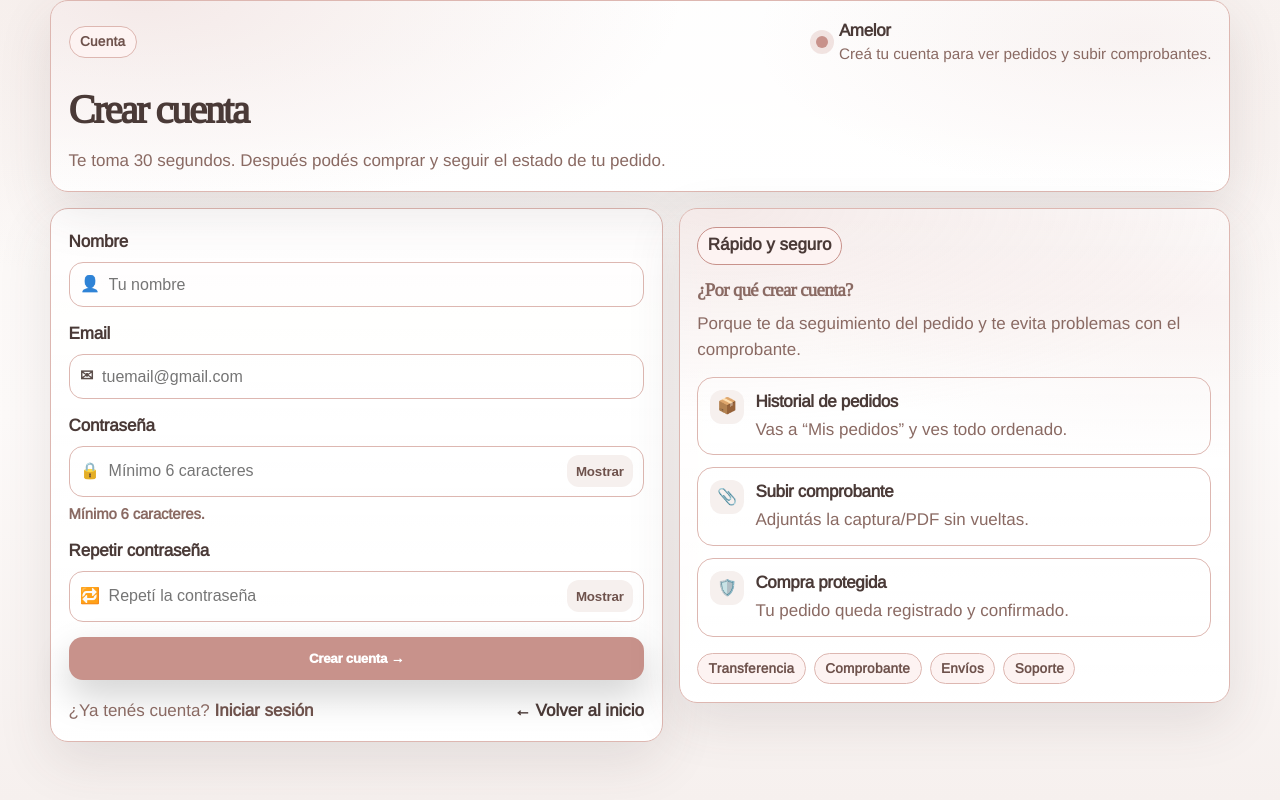
Test: Register › sin token manda al login
In the field labelled "Nombre": (371, 284) [109, 272, 633, 298], type "Ana"
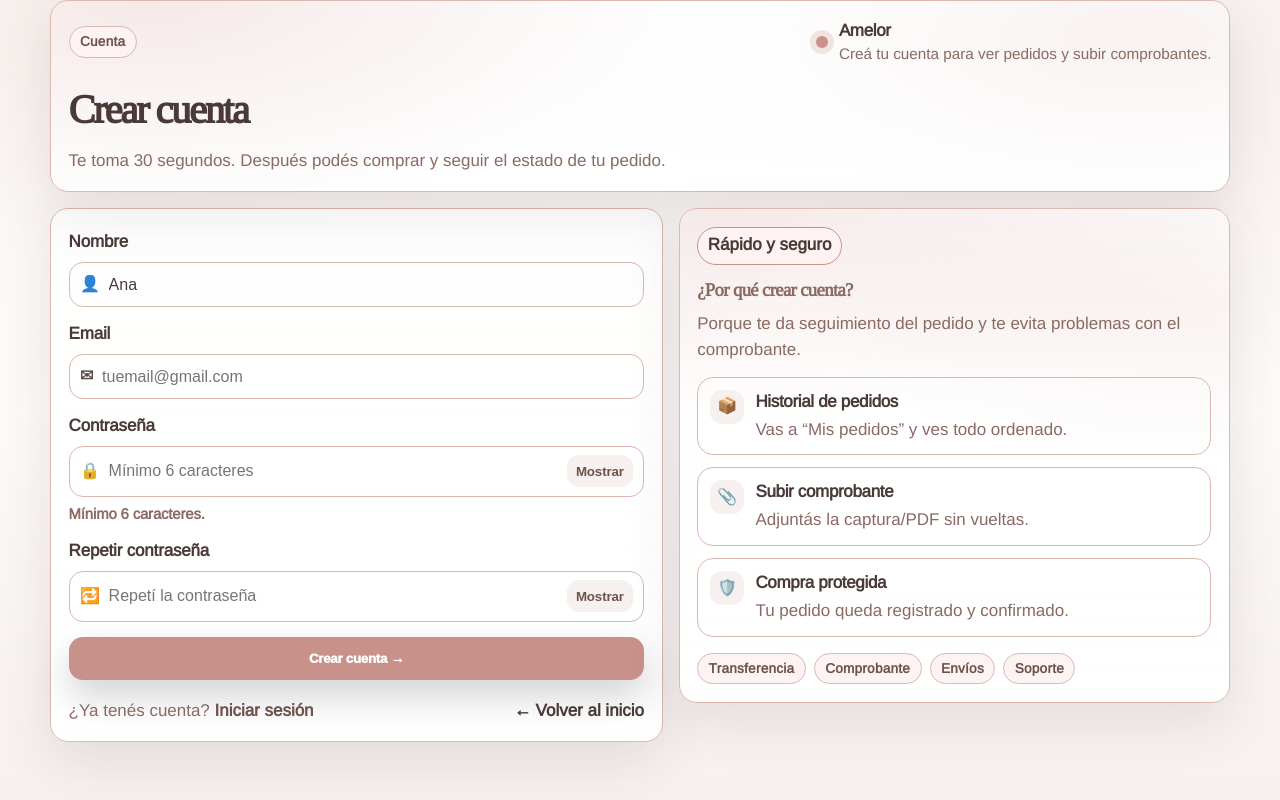
In the field labelled "Email": (367, 376) [102, 364, 633, 390], type "ana@mail.com"
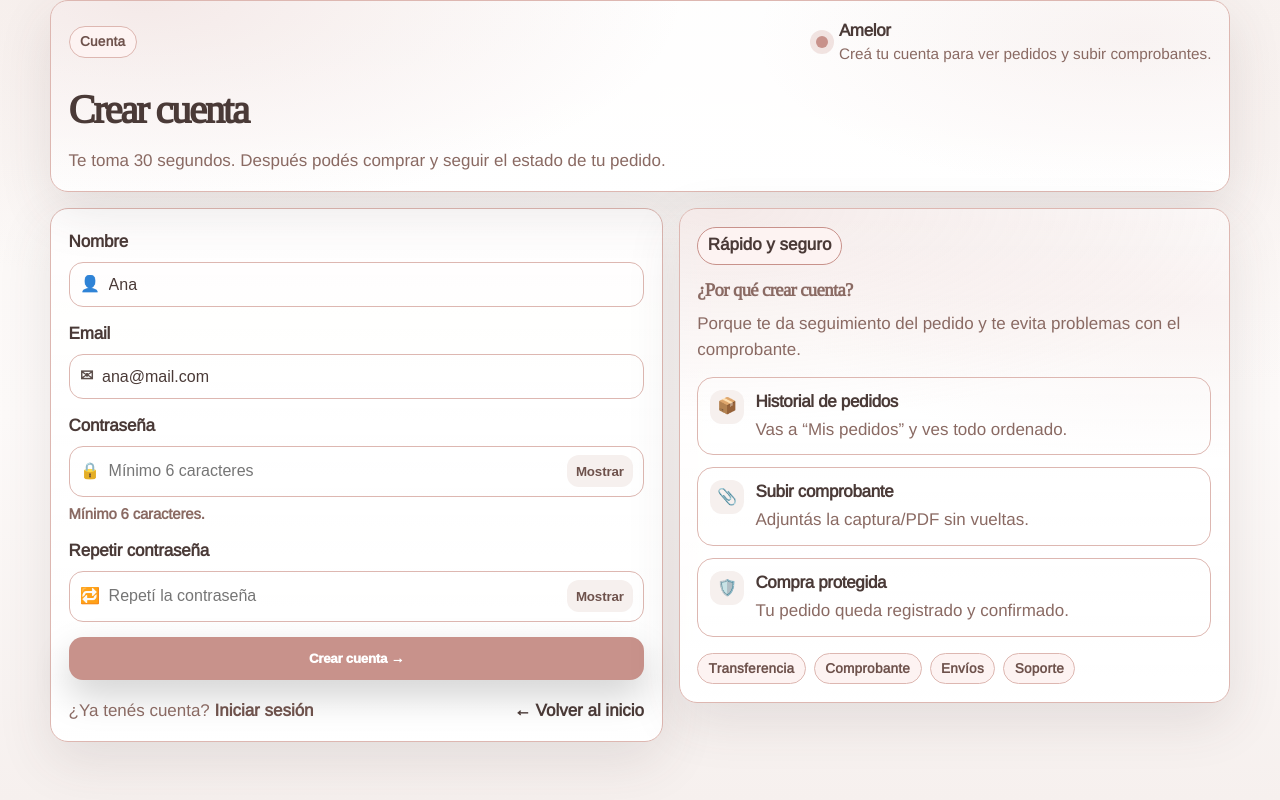
In the password field labelled "Contraseña": (333, 472) [109, 458, 558, 484], type "secreto1"
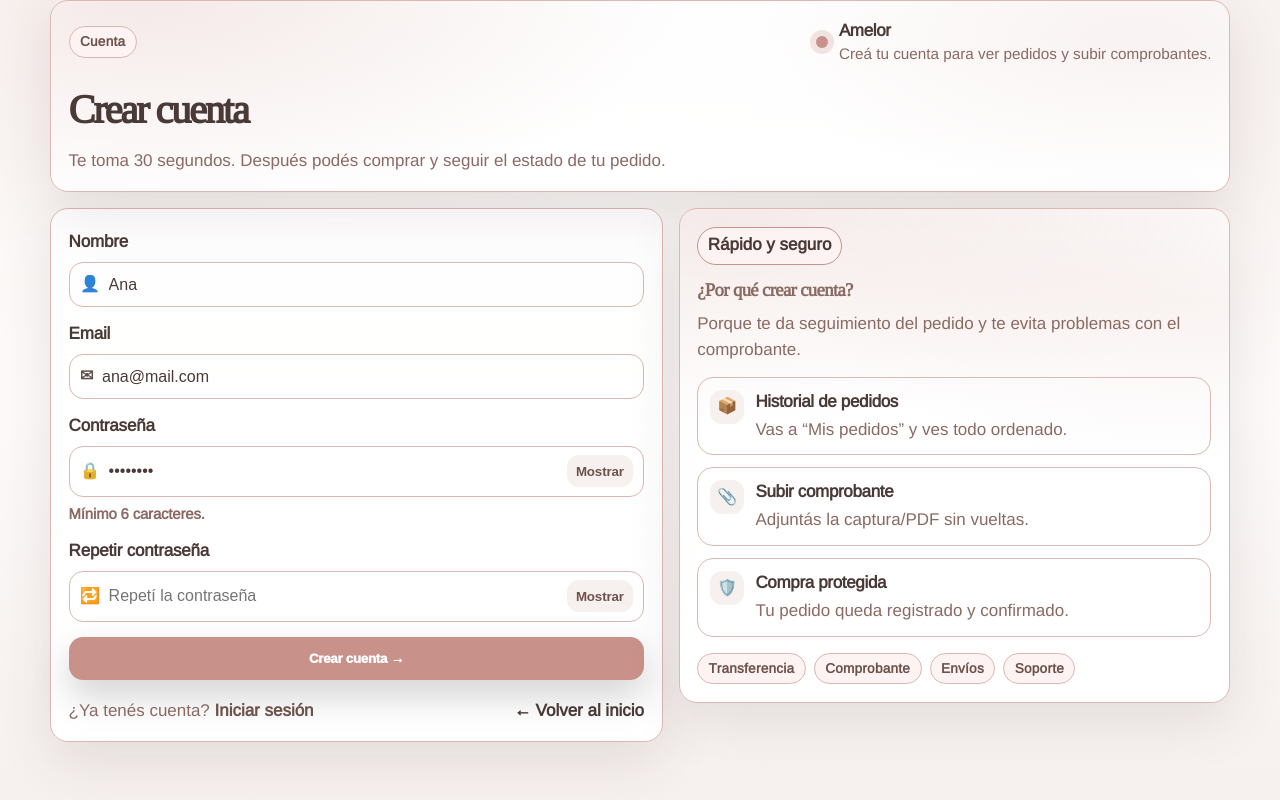
In the password field labelled "Repetir contraseña": (333, 596) [109, 583, 558, 609], type "secreto1"
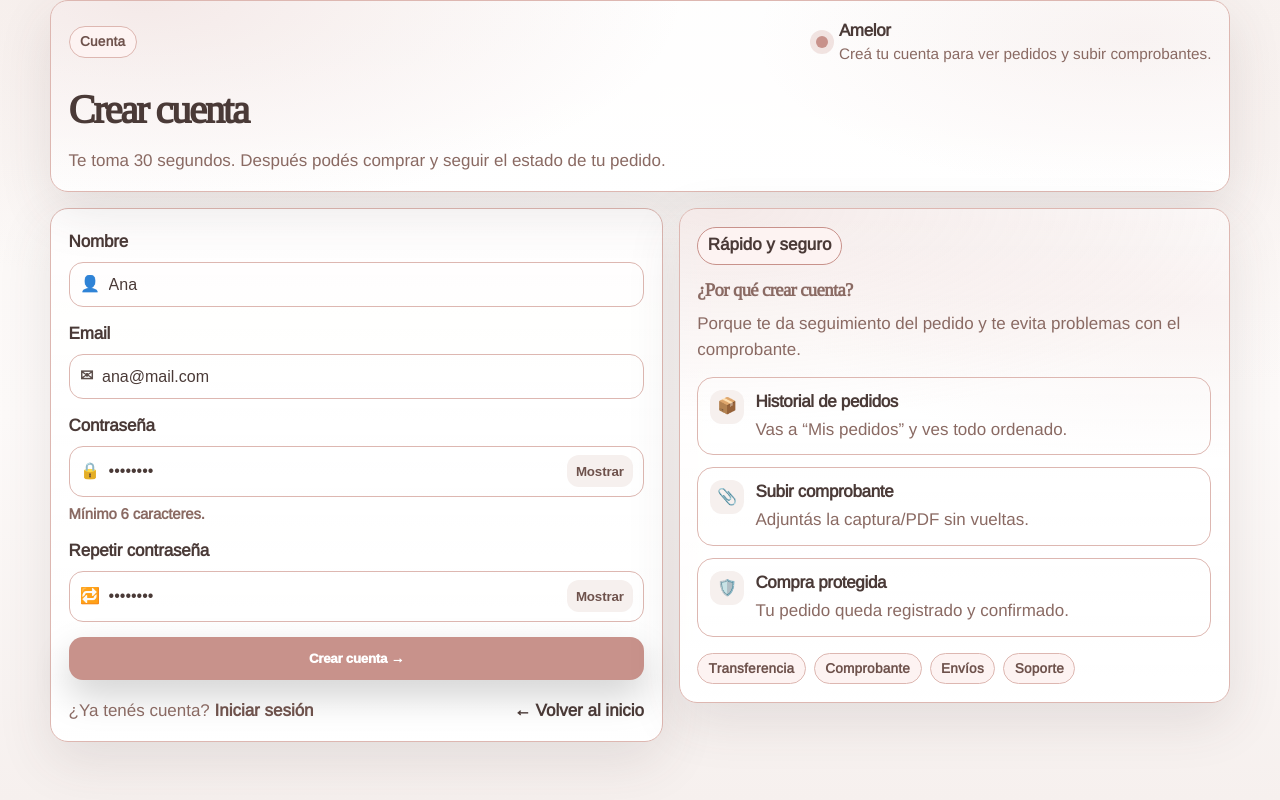
Submit the form, box [69, 230, 644, 680]
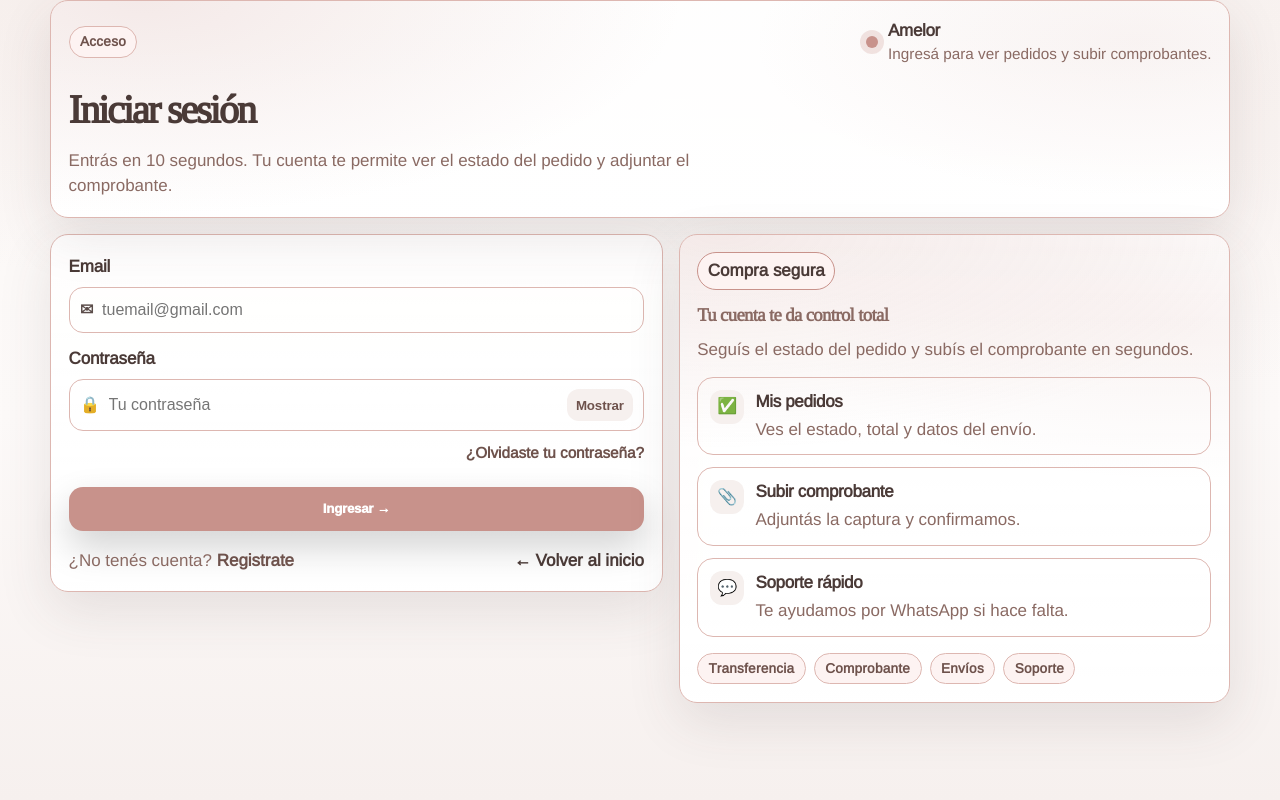
Now the heading "Iniciar sesión" is shown, box [69, 85, 255, 135]
